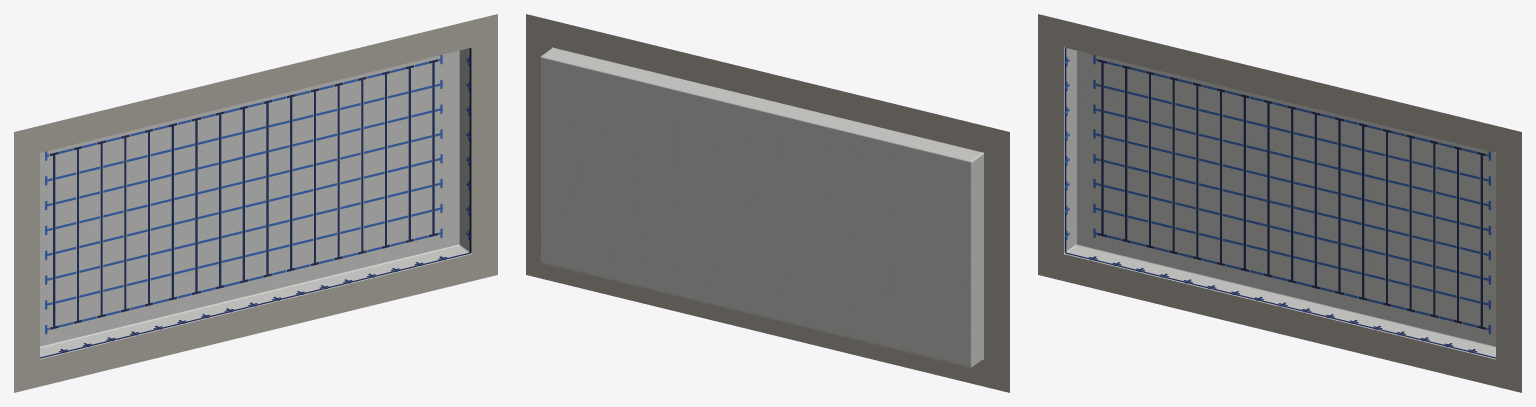
The model's file is Woollett_CompetitionPool.obj.
The picture shows the model from 3 angles, left to right: view 1: azimuth 30°, elevation 25°; view 2: azimuth 150°, elevation 25°; view 3: azimuth 330°, elevation 25°; orthographic projection.
Visible parts, largest first — view 1: pool_floor, deck, floor_lines_cross_dark, floor_lines_long_medium, pool_walls, wall_band, wall_pluses; view 2: pool_floor, deck, pool_walls; view 3: pool_floor, deck, floor_lines_cross_dark, floor_lines_long_medium, pool_walls, wall_band, wall_pluses.
Boxes of the visible parts, x1,y1,x2,y2 form: pool_floor: (40, 50, 458, 346); deck: (14, 14, 497, 392); floor_lines_cross_dark: (50, 59, 437, 329); floor_lines_long_medium: (45, 54, 442, 334); pool_walls: (40, 48, 471, 359); wall_band: (40, 47, 470, 358); wall_pluses: (58, 57, 471, 352); pool_floor: (541, 58, 970, 366); deck: (526, 14, 1009, 392); pool_walls: (540, 47, 983, 367); pool_floor: (1077, 50, 1495, 346); deck: (1038, 14, 1521, 392); floor_lines_cross_dark: (1098, 59, 1485, 329); floor_lines_long_medium: (1093, 54, 1490, 334); pool_walls: (1064, 48, 1495, 359); wall_band: (1065, 47, 1495, 358); wall_pluses: (1064, 57, 1477, 352).
Size of the model in its own units: 56 by 28.86 by 2.44.
5 materials, 4 textured.
